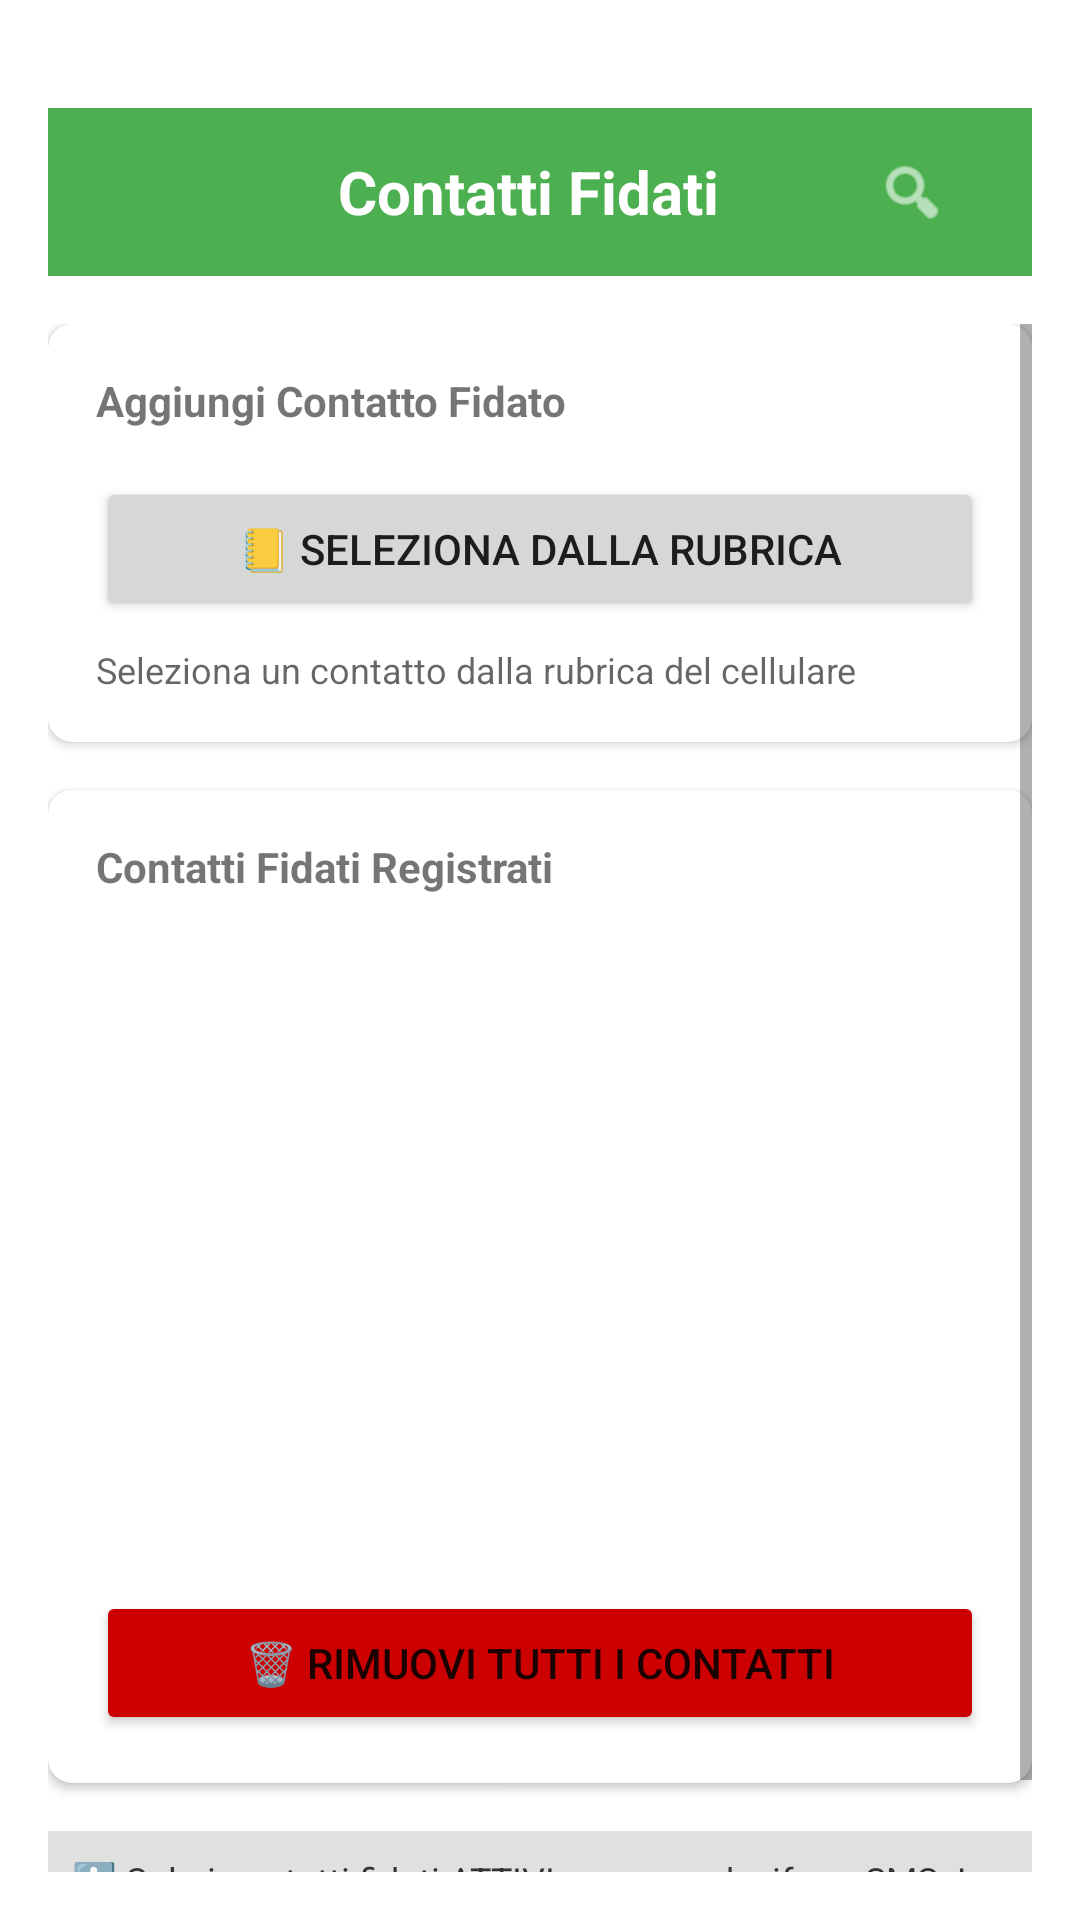

Icons on this 1080 x 1920 Android screen, each with its box as region(x1, y1, x2, y2):
Cerca contatti: region(885, 166, 939, 219)
